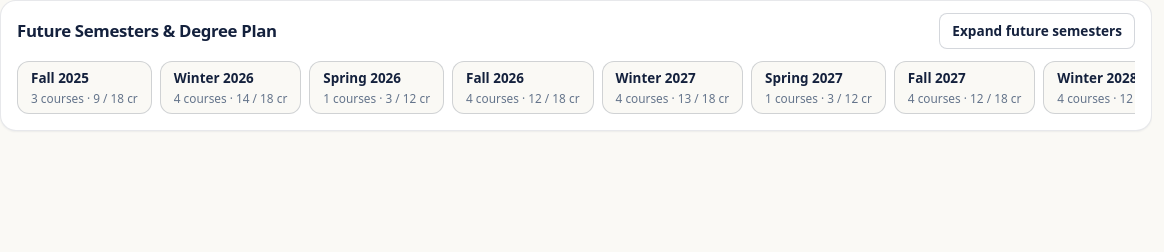
Planie redesigned UI & UX flows › FutureSemestersStrip expands and allows queueing Move term
Click the button "Expand future semesters" at [1037, 31], box [939,13,1135,49]
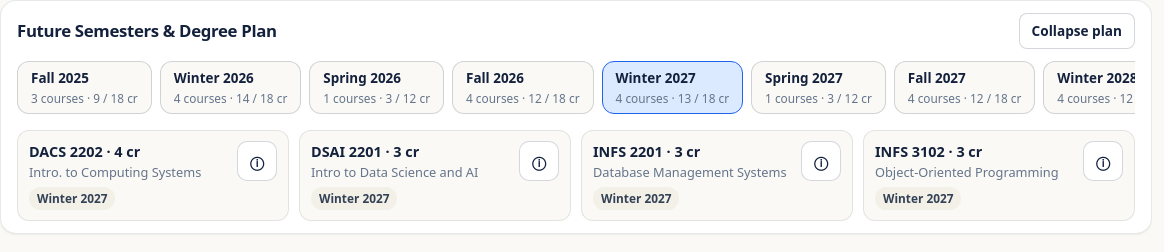
Check: the button "Collapse plan" is shown, box [1019,13,1135,49]
